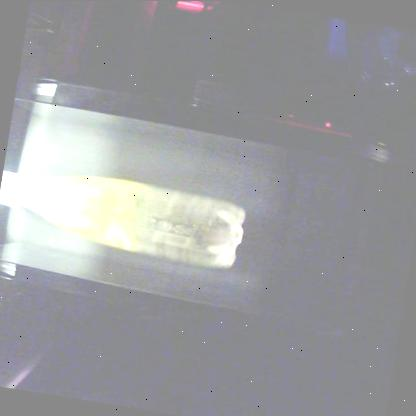Plastic Bottle: (0, 170, 246, 266)
